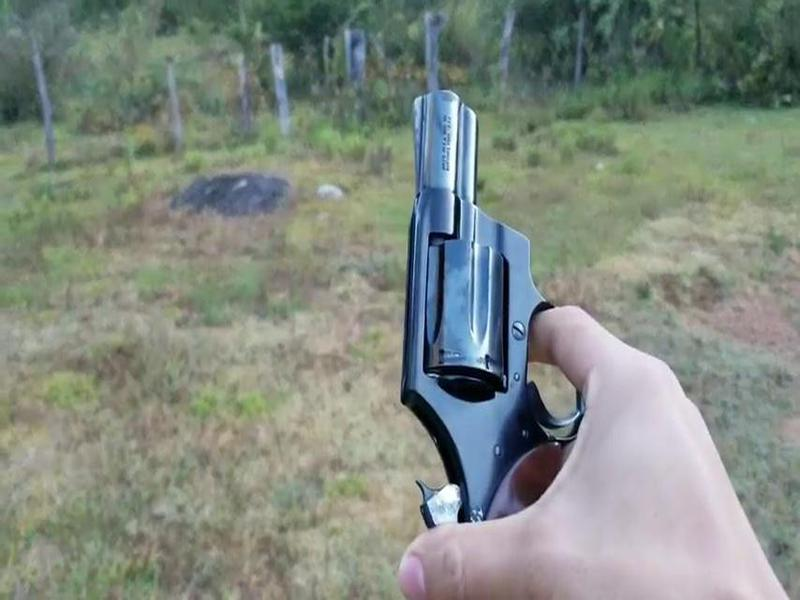Revolver: (389, 67, 604, 540)
